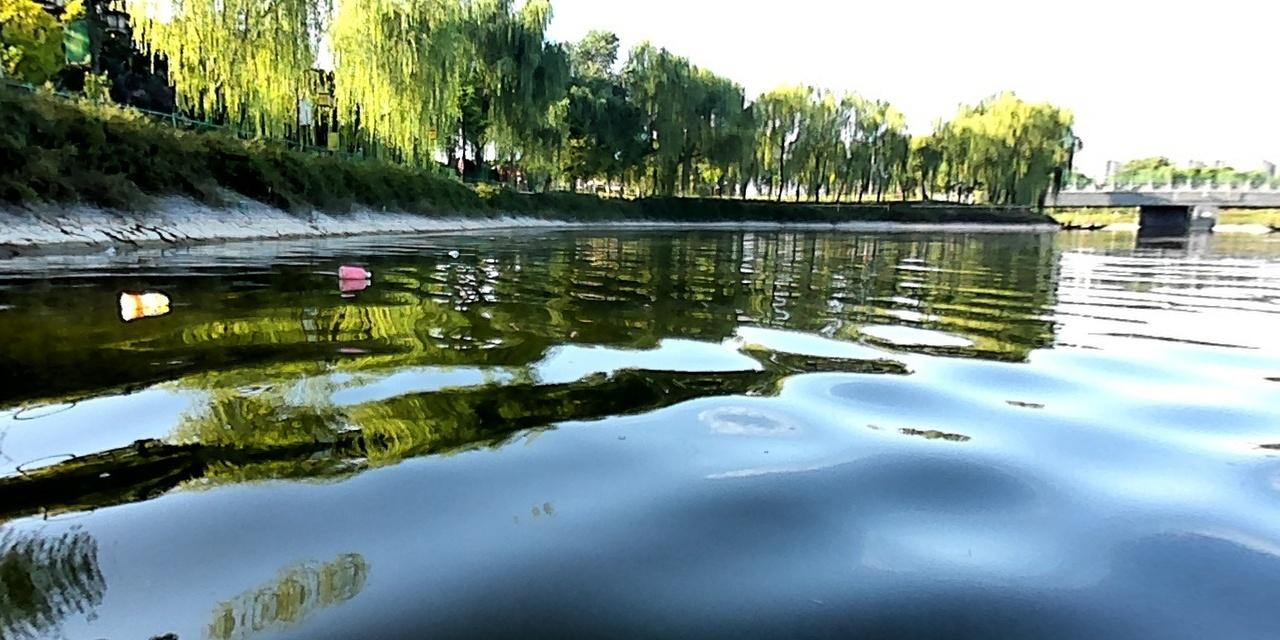bottle: (114, 286, 172, 310), (334, 261, 372, 279)
